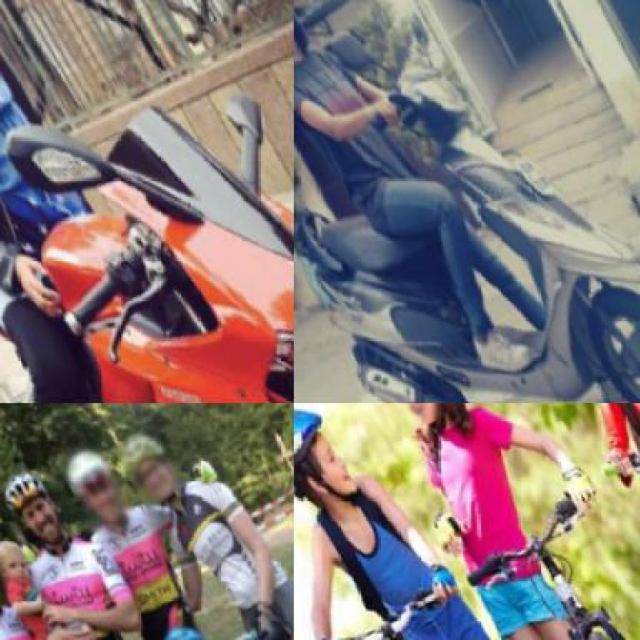With Helmet: (294, 403, 380, 543), (52, 438, 139, 540), (0, 456, 75, 558), (109, 422, 191, 510), (344, 403, 474, 439), (137, 610, 232, 638)
